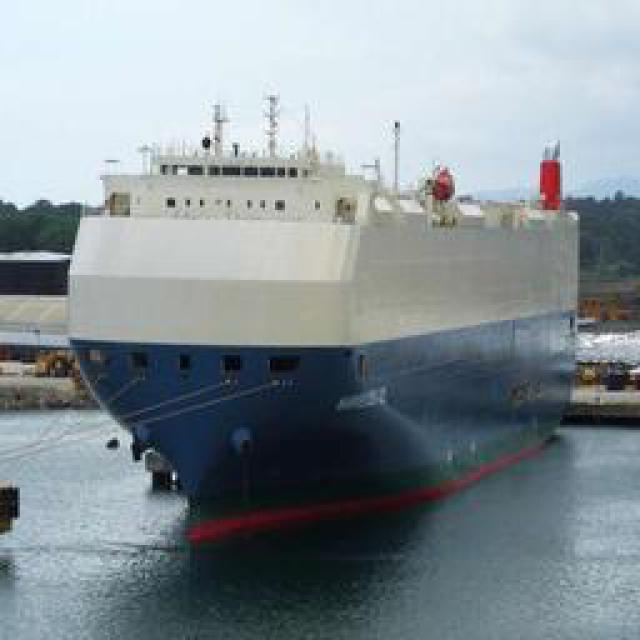Ship: (67, 141, 580, 531)
